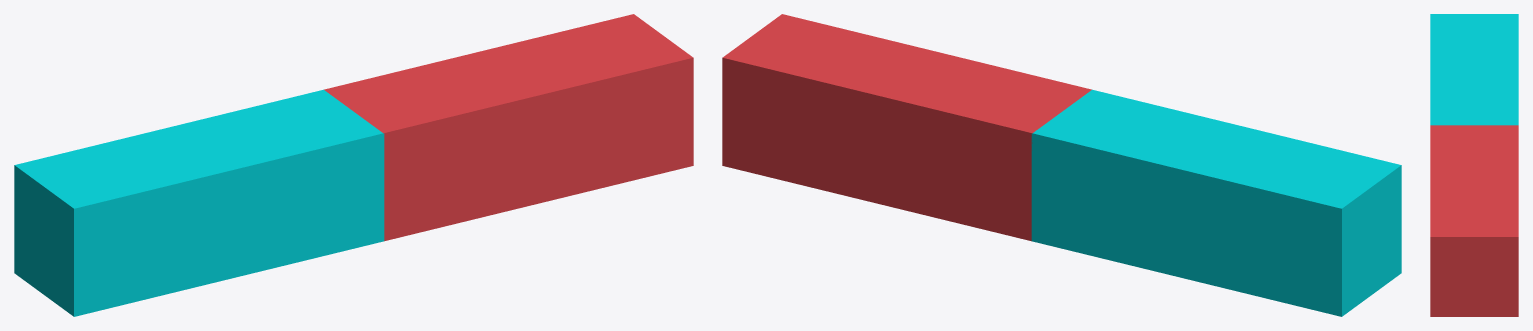
The model's file is magnet2.fbx.
The picture shows the model from 3 angles, left to right: view 1: azimuth 30°, elevation 25°; view 2: azimuth 150°, elevation 25°; view 3: azimuth 270°, elevation 25°; orthographic projection. The views are drawn at different scales.
Visible parts, largest first — view 1: Cube.001; view 2: Cube.001; view 3: Cube.001.
Boxes of the visible parts, x1,y1,x2,y2 form: Cube.001: [14, 14, 693, 316]; Cube.001: [722, 14, 1401, 316]; Cube.001: [1430, 14, 1518, 316].
Bounding box in the file's own units: 1198 × 200 × 200.
